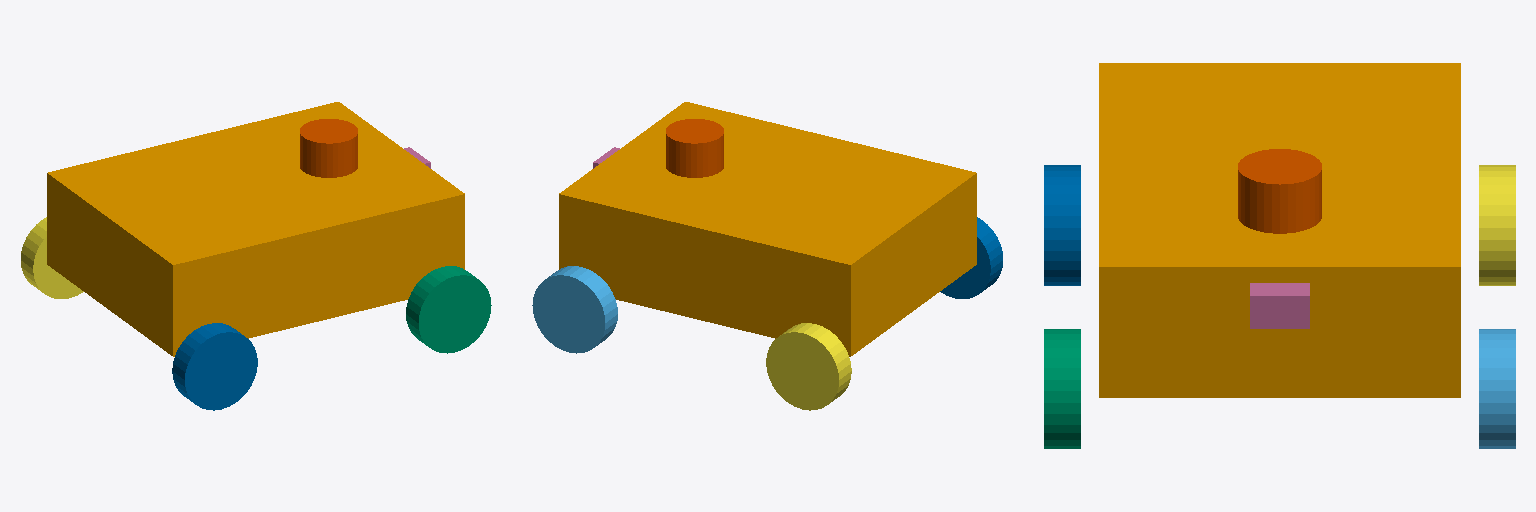
robot.urdf — mecanum4_lidar:
<?xml version="1.0"?>
<robot name="mecanum4_lidar">

  <link name="base_link">
    <visual>
      <origin xyz="0 0 0.12" rpy="0 0 0"/>
      <geometry>
        <box size="0.40 0.30 0.12"/>
      </geometry>
    </visual>
    <collision>
      <origin xyz="0 0 0.12" rpy="0 0 0"/>
      <geometry>
        <box size="0.40 0.30 0.12"/>
      </geometry>
    </collision>
    <inertial>
      <origin xyz="0 0 0.12" rpy="0 0 0"/>
      <mass value="5.0"/>
      <inertia ixx="0.0475" ixy="0.0" ixz="0.0" iyy="0.0727" iyz="0.0" izz="0.1042"/>
    </inertial>
  </link>

  
  <link name="wheel_fl_link">
    <visual>
      <origin xyz="0 0 0" rpy="1.5707963 0 0"/>
      <geometry><cylinder radius="0.05" length="0.03"/></geometry>
    </visual>
    <collision>
      <origin xyz="0 0 0" rpy="1.5707963 0 0"/>
      <geometry><cylinder radius="0.05" length="0.03"/></geometry>
    </collision>
    <inertial>
      <origin xyz="0 0 0" rpy="0 0 0"/>
      <mass value="0.5"/>
      <inertia ixx="0.0004" ixy="0.0" ixz="0.0" iyy="0.0002" iyz="0.0" izz="0.0004"/>
    </inertial>
  </link>
  <joint name="wheel_fl_joint" type="continuous">
    <parent link="base_link"/>
    <child link="wheel_fl_link"/>
    <origin xyz="0.16 0.18 0.05" rpy="0 0 0"/>
    <axis xyz="0 1 0"/>
    <dynamics damping="0.01" friction="0.0"/>
  </joint>

  <link name="wheel_fr_link">
    <visual>
      <origin xyz="0 0 0" rpy="1.5707963 0 0"/>
      <geometry><cylinder radius="0.05" length="0.03"/></geometry>
    </visual>
    <collision>
      <origin xyz="0 0 0" rpy="1.5707963 0 0"/>
      <geometry><cylinder radius="0.05" length="0.03"/></geometry>
    </collision>
    <inertial>
      <origin xyz="0 0 0" rpy="0 0 0"/>
      <mass value="0.5"/>
      <inertia ixx="0.0004" ixy="0.0" ixz="0.0" iyy="0.0002" iyz="0.0" izz="0.0004"/>
    </inertial>
  </link>
  <joint name="wheel_fr_joint" type="continuous">
    <parent link="base_link"/>
    <child link="wheel_fr_link"/>
    <origin xyz="0.16 -0.18 0.05" rpy="0 0 0"/>
    <axis xyz="0 1 0"/>
    <dynamics damping="0.01" friction="0.0"/>
  </joint>

  <link name="wheel_rl_link">
    <visual>
      <origin xyz="0 0 0" rpy="1.5707963 0 0"/>
      <geometry><cylinder radius="0.05" length="0.03"/></geometry>
    </visual>
    <collision>
      <origin xyz="0 0 0" rpy="1.5707963 0 0"/>
      <geometry><cylinder radius="0.05" length="0.03"/></geometry>
    </collision>
    <inertial>
      <origin xyz="0 0 0" rpy="0 0 0"/>
      <mass value="0.5"/>
      <inertia ixx="0.0004" ixy="0.0" ixz="0.0" iyy="0.0002" iyz="0.0" izz="0.0004"/>
    </inertial>
  </link>
  <joint name="wheel_rl_joint" type="continuous">
    <parent link="base_link"/>
    <child link="wheel_rl_link"/>
    <origin xyz="-0.16 0.18 0.05" rpy="0 0 0"/>
    <axis xyz="0 1 0"/>
    <dynamics damping="0.01" friction="0.0"/>
  </joint>

  <link name="wheel_rr_link">
    <visual>
      <origin xyz="0 0 0" rpy="1.5707963 0 0"/>
      <geometry><cylinder radius="0.05" length="0.03"/></geometry>
    </visual>
    <collision>
      <origin xyz="0 0 0" rpy="1.5707963 0 0"/>
      <geometry><cylinder radius="0.05" length="0.03"/></geometry>
    </collision>
    <inertial>
      <origin xyz="0 0 0" rpy="0 0 0"/>
      <mass value="0.5"/>
      <inertia ixx="0.0004" ixy="0.0" ixz="0.0" iyy="0.0002" iyz="0.0" izz="0.0004"/>
    </inertial>
  </link>
  <joint name="wheel_rr_joint" type="continuous">
    <parent link="base_link"/>
    <child link="wheel_rr_link"/>
    <origin xyz="-0.16 -0.18 0.05" rpy="0 0 0"/>
    <axis xyz="0 1 0"/>
    <dynamics damping="0.01" friction="0.0"/>
  </joint>

    <link name="laser_frame">
    <visual>
      <origin xyz="0 0 0" rpy="0 0 0"/>
      <geometry>
        <cylinder radius="0.035" length="0.05"/>
      </geometry>
    </visual>
    <collision>
      <origin xyz="0 0 0" rpy="0 0 0"/>
      <geometry>
        <cylinder radius="0.035" length="0.05"/>
      </geometry>
    </collision>
    <inertial>
      <origin xyz="0 0 0" rpy="0 0 0"/>
      <mass value="0.10"/>
      <inertia ixx="1e-4" ixy="0" ixz="0" iyy="1e-4" iyz="0" izz="1e-4"/>
    </inertial>
  </link>

  <joint name="laser_joint" type="fixed">
    <parent link="base_link"/>
    <child link="laser_frame"/>
    <origin xyz="0.10 0.00 0.20" rpy="0 0 0"/>
  </joint>

  <!-- ── Forward camera ──────────────────────────────────────────────────── -->
  <link name="camera_link">
    <visual>
      <origin xyz="0 0 0" rpy="0 0 0"/>
      <geometry><box size="0.03 0.05 0.03"/></geometry>
    </visual>
    <inertial>
      <origin xyz="0 0 0" rpy="0 0 0"/>
      <mass value="0.05"/>
      <inertia ixx="1e-5" ixy="0" ixz="0" iyy="1e-5" iyz="0" izz="1e-5"/>
    </inertial>
  </link>

  <joint name="camera_joint" type="fixed">
    <parent link="base_link"/>
    <child link="camera_link"/>
    <origin xyz="0.21 0 0.15" rpy="0 0 0"/>
  </joint>

  <!-- Optical frame: z-forward, x-right (ROS camera convention) -->
  <link name="camera_optical_link"/>
  <joint name="camera_optical_joint" type="fixed">
    <parent link="camera_link"/>
    <child link="camera_optical_link"/>
    <origin xyz="0 0 0" rpy="-1.5707963 0 -1.5707963"/>
  </joint>

    <ros2_control name="GazeboSystem" type="system">
    <hardware>
      <plugin>gazebo_ros2_control/GazeboSystem</plugin>
    </hardware>

    <joint name="wheel_fl_joint">
      <command_interface name="velocity"/>
      <state_interface name="velocity"/>
      <state_interface name="position"/>
    </joint>

    <joint name="wheel_fr_joint">
      <command_interface name="velocity"/>
      <state_interface name="velocity"/>
      <state_interface name="position"/>
    </joint>

    <joint name="wheel_rl_joint">
      <command_interface name="velocity"/>
      <state_interface name="velocity"/>
      <state_interface name="position"/>
    </joint>

    <joint name="wheel_rr_joint">
      <command_interface name="velocity"/>
      <state_interface name="velocity"/>
      <state_interface name="position"/>
    </joint>
  </ros2_control>

  <gazebo reference="base_link">
    <mu1>0.2</mu1>
    <mu2>0.2</mu2>
    <material>Gazebo/Blue</material>
  </gazebo>

  <gazebo>
    <plugin name="gazebo_ros_planar_move" filename="libgazebo_ros_planar_move.so">
      <ros>
        <namespace>/</namespace>
      </ros>
      <update_rate>30</update_rate>
      <publish_rate>20</publish_rate>
      <publish_odom>true</publish_odom>
      <publish_odom_tf>true</publish_odom_tf>
      <odometry_frame>odom</odometry_frame>
      <robot_base_frame>base_link</robot_base_frame>
      <covariance_x>0.0001</covariance_x>
      <covariance_y>0.0001</covariance_y>
      <covariance_yaw>0.01</covariance_yaw>
    </plugin>
  </gazebo>

  <gazebo>
    <plugin name="gazebo_ros2_control" filename="libgazebo_ros2_control.so">
      <parameters>/home/minmin/ros2_ws/src/mecanum4_description/config/mecanum_controllers.yaml</parameters>
    </plugin>
  </gazebo>

  <gazebo reference="wheel_fl_link">
    <mu1>0.0</mu1>
    <mu2>0.0</mu2>
    <kp>100000.0</kp>
    <kd>1.0</kd>
    <minDepth>0.001</minDepth>
    <maxVel>1.0</maxVel>
    <material>Gazebo/Black</material>
  </gazebo>

  <gazebo reference="wheel_fr_link">
    <mu1>0.0</mu1>
    <mu2>0.0</mu2>
    <kp>100000.0</kp>
    <kd>1.0</kd>
    <minDepth>0.001</minDepth>
    <maxVel>1.0</maxVel>
    <material>Gazebo/Black</material>
  </gazebo>

  <gazebo reference="wheel_rl_link">
    <mu1>0.0</mu1>
    <mu2>0.0</mu2>
    <kp>100000.0</kp>
    <kd>1.0</kd>
    <minDepth>0.001</minDepth>
    <maxVel>1.0</maxVel>
    <material>Gazebo/Black</material>
  </gazebo>

  <gazebo reference="wheel_rr_link">
    <mu1>0.0</mu1>
    <mu2>0.0</mu2>
    <kp>100000.0</kp>
    <kd>1.0</kd>
    <minDepth>0.001</minDepth>
    <maxVel>1.0</maxVel>
    <material>Gazebo/Black</material>
  </gazebo>

  <gazebo reference="camera_link">
    <sensor type="camera" name="camera_sensor">
      <update_rate>15</update_rate>
      <visualize>true</visualize>
      <camera>
        <horizontal_fov>1.047</horizontal_fov>
        <image>
          <width>640</width>
          <height>480</height>
          <format>R8G8B8</format>
        </image>
        <clip>
          <near>0.05</near>
          <far>20.0</far>
        </clip>
      </camera>
      <plugin name="camera_controller" filename="libgazebo_ros_camera.so">
        <ros>
          <remapping>~/image_raw:=/camera/image_raw</remapping>
          <remapping>~/camera_info:=/camera/camera_info</remapping>
        </ros>
        <camera_name>camera</camera_name>
        <frame_name>camera_optical_link</frame_name>
      </plugin>
    </sensor>
  </gazebo>

    <gazebo reference="laser_frame">
    <sensor type="gpu_ray" name="laser_sensor">
      <pose>0 0 0 0 0 0</pose>
      <visualize>true</visualize>
      <update_rate>10</update_rate>
      <ray>
        <scan>
          <horizontal>
            <samples>360</samples>
            <resolution>1</resolution>
            <min_angle>-3.14159</min_angle>
            <max_angle>3.14159</max_angle>
          </horizontal>
        </scan>
        <range>
          <min>0.12</min>
          <max>12.0</max>
          <resolution>0.01</resolution>
        </range>
        <noise>
          <type>gaussian</type>
          <mean>0.0</mean>
          <stddev>0.01</stddev>
        </noise>
      </ray>
      <plugin name="gazebo_ros_laser" filename="libgazebo_ros_ray_sensor.so">
        <ros>
          <remapping>~/out:=scan</remapping>
        </ros>
        <output_type>sensor_msgs/LaserScan</output_type>
        <frame_name>laser_frame</frame_name>
      </plugin>
    </sensor>
  </gazebo>

</robot>

--- Facts derived from the render (not from the file) ---
Views: 3 orthographic renders of the robot side by side, from view 1: azimuth 30°, elevation 25°; view 2: azimuth 150°, elevation 25°; view 3: azimuth 270°, elevation 25°.
Model mecanum4_lidar with 8 links and 7 joints (4 continuous, 3 fixed), rooted at base_link, posed every joint at zero.
Visible links, largest first — view 1: base_link, wheel_rr_link, wheel_fr_link, laser_frame, wheel_rl_link; view 2: base_link, wheel_rl_link, wheel_fl_link, laser_frame, wheel_rr_link; view 3: base_link, laser_frame, wheel_rl_link, wheel_rr_link, wheel_fl_link, wheel_fr_link, camera_link.
Boxes of the visible links, left/top/right/bottom form: base_link: left=47, top=102, right=464, bottom=356; wheel_rr_link: left=172, top=323, right=257, bottom=410; wheel_fr_link: left=406, top=266, right=491, bottom=353; laser_frame: left=300, top=119, right=357, bottom=177; wheel_rl_link: left=21, top=217, right=83, bottom=298; base_link: left=559, top=102, right=976, bottom=356; wheel_rl_link: left=766, top=323, right=851, bottom=410; wheel_fl_link: left=532, top=266, right=617, bottom=353; laser_frame: left=666, top=119, right=723, bottom=177; wheel_rr_link: left=940, top=217, right=1002, bottom=298; base_link: left=1099, top=63, right=1460, bottom=397; laser_frame: left=1238, top=149, right=1321, bottom=233; wheel_rl_link: left=1479, top=165, right=1515, bottom=285; wheel_rr_link: left=1044, top=165, right=1080, bottom=285; wheel_fl_link: left=1479, top=329, right=1515, bottom=448; wheel_fr_link: left=1044, top=329, right=1080, bottom=448; camera_link: left=1250, top=283, right=1309, bottom=328.
Bounding box of the posed robot: 0.435 × 0.39 × 0.225 m (x, y, z).
Geometry: primitives only (box / cylinder / sphere), no mesh files.
